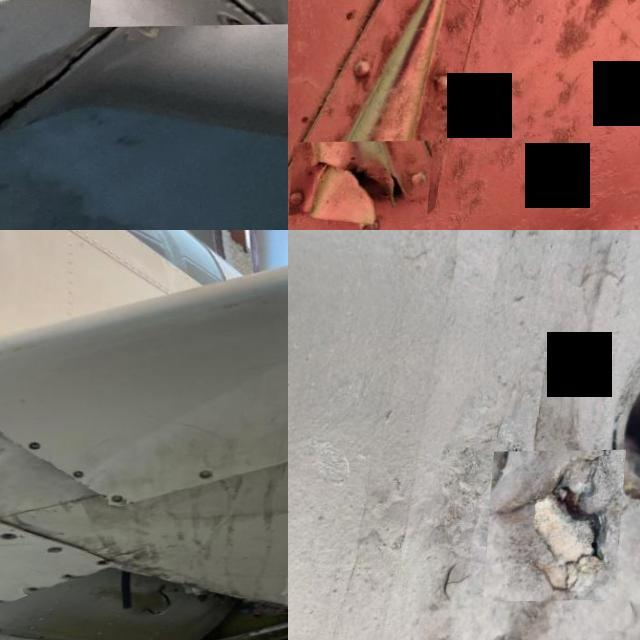Crack: (491, 452, 632, 604), (0, 22, 124, 163), (290, 141, 436, 230), (94, 0, 288, 28)
Missing_Fastener: (133, 18, 165, 40), (28, 440, 48, 453), (198, 471, 220, 482), (114, 494, 132, 506), (73, 470, 94, 480), (100, 560, 116, 570), (6, 532, 20, 541), (68, 572, 80, 582), (32, 586, 44, 594)
